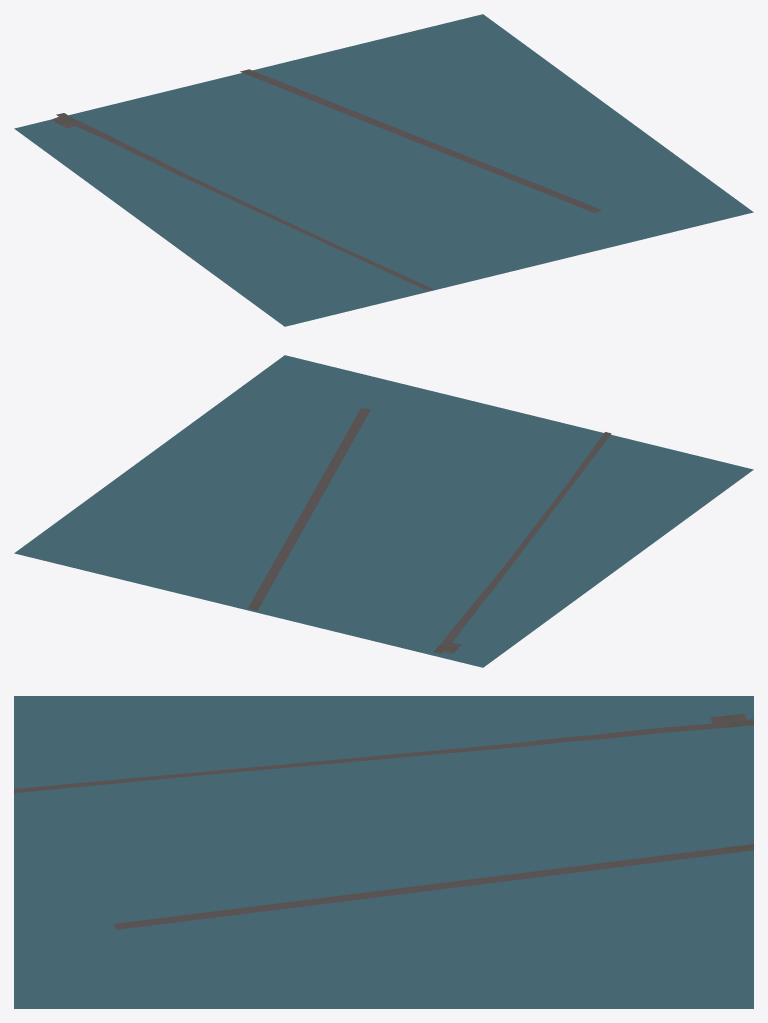
3 renders of one model, top to bottom at view 1: azimuth 30°, elevation 25°; view 2: azimuth 150°, elevation 25°; view 3: azimuth 270°, elevation 25°, orthographic. The views are drawn at different scales.
Visible parts, largest first — view 1: c_m05_m09; view 2: c_m05_m09; view 3: c_m05_m09.
Boxes of the visible parts, x1=… form: c_m05_m09: x1=14, y1=14, x2=753, y2=326; c_m05_m09: x1=14, y1=355, x2=753, y2=667; c_m05_m09: x1=14, y1=696, x2=753, y2=1008.
Size of the model in its own units: 128 by 0.9481 by 128.
